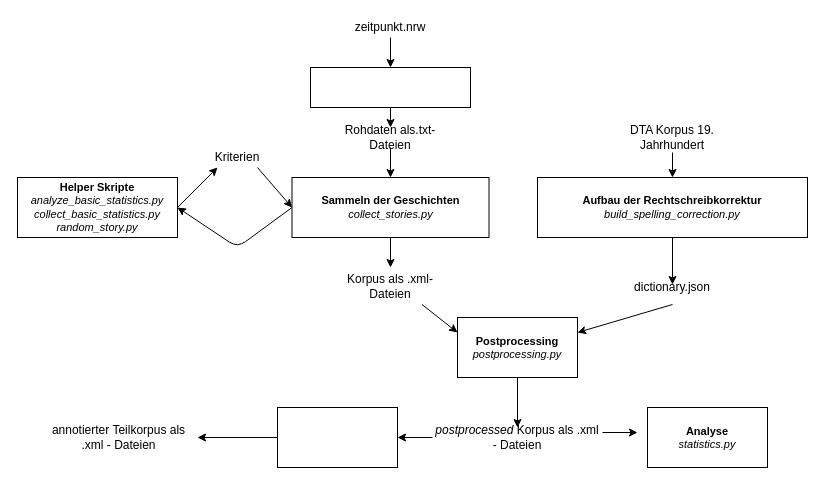
Image size: 825x485. Some labels were removed from this diagram. The shapes that lost their labels are listed below. From the top down, each one's box as (x1, y1, x2, y2) in pixels, then its label:
(310, 66, 470, 108): Download download_zeitpunkt_nrw.py
(276, 406, 398, 468): Annotation annotation.py
